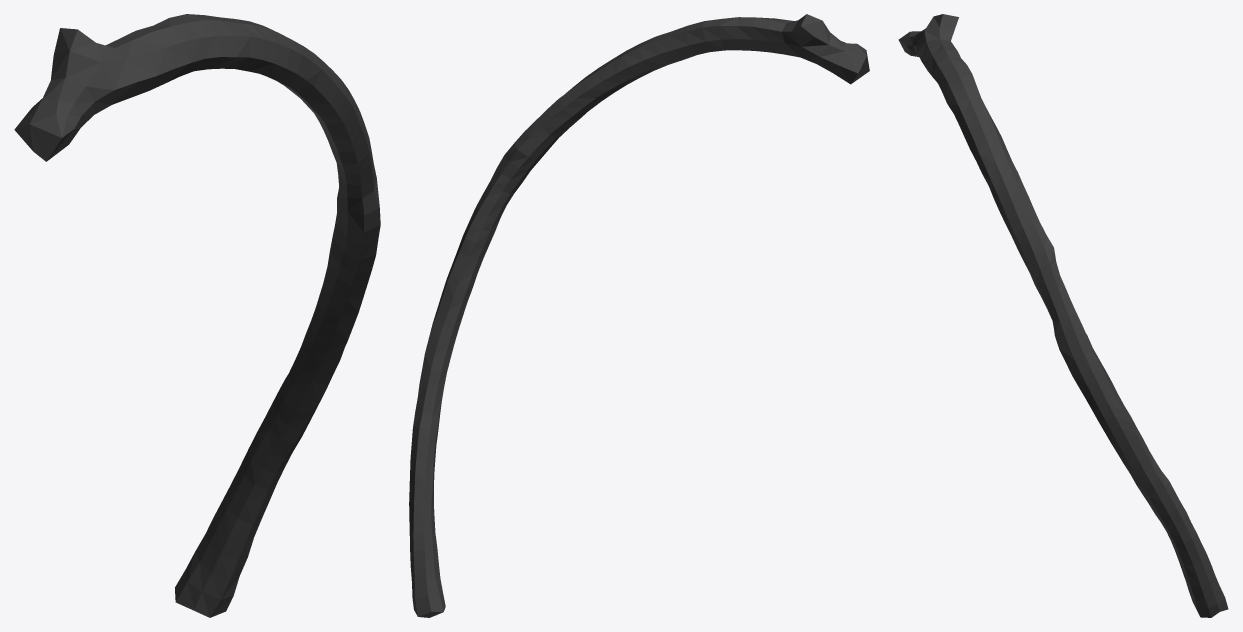
File: Rib_10.glb
The picture shows the model from 3 angles, left to right: view 1: azimuth 30°, elevation 25°; view 2: azimuth 150°, elevation 25°; view 3: azimuth 270°, elevation 25°; orthographic projection. The views are drawn at different scales.
Parts seen in each view (by area): view 1: Rib_10; view 2: Rib_10; view 3: Rib_10.
Part boxes in pixels (bbox=[...]): Rib_10: bbox=[14, 14, 380, 617]; Rib_10: bbox=[409, 14, 869, 617]; Rib_10: bbox=[898, 14, 1228, 617].
Bounding box in the file's own units: 4.72 × 7.62 × 4.57.
Materials: 1 (1 with a texture image).
